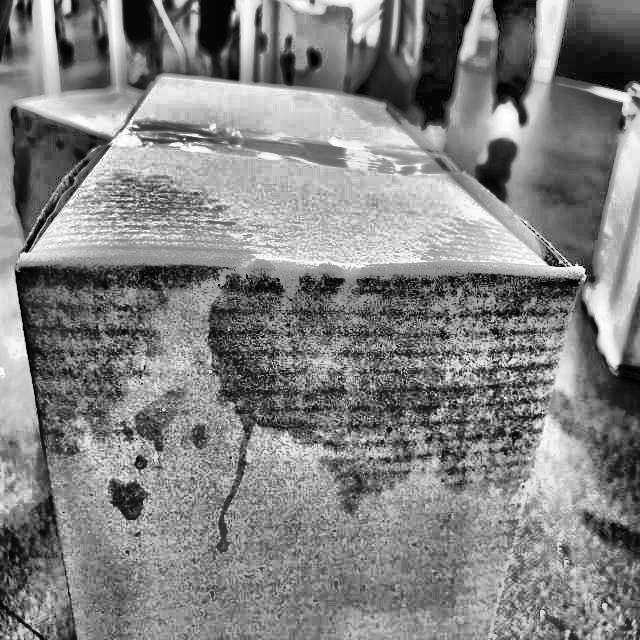box: (11, 69, 591, 639)
wet: (33, 174, 238, 538), (245, 256, 573, 468)
